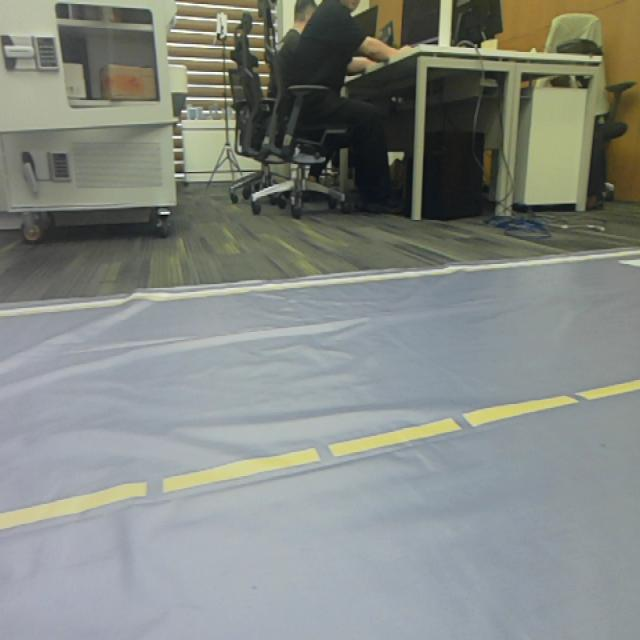left_lane: (0, 381, 640, 532)
